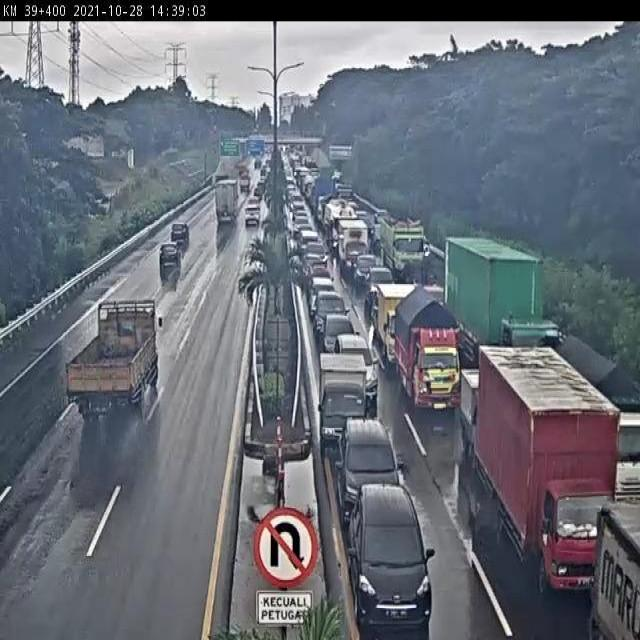big truck: (466, 335, 619, 600), (439, 233, 568, 372), (581, 500, 640, 640), (381, 212, 433, 287), (210, 177, 244, 227)
car: (345, 481, 459, 636), (333, 409, 414, 523), (337, 328, 384, 401), (313, 289, 350, 343), (320, 312, 360, 359), (366, 266, 399, 318), (354, 249, 380, 292), (154, 240, 189, 271), (165, 216, 193, 248), (243, 200, 264, 231)
small truck: (63, 285, 188, 435), (392, 291, 467, 421), (314, 340, 371, 464), (377, 280, 418, 368)
